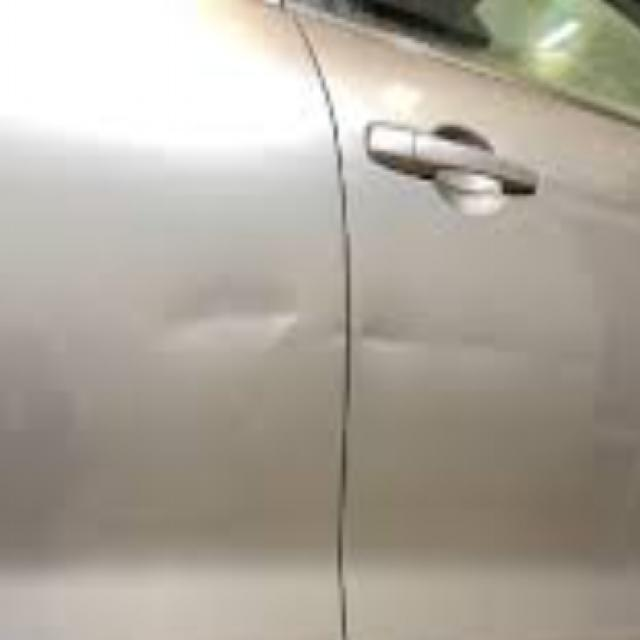dents: (163, 273, 302, 367), (361, 299, 436, 361), (456, 314, 506, 391), (323, 299, 351, 366)
